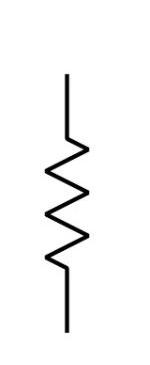resistor: (26, 108, 108, 296)
